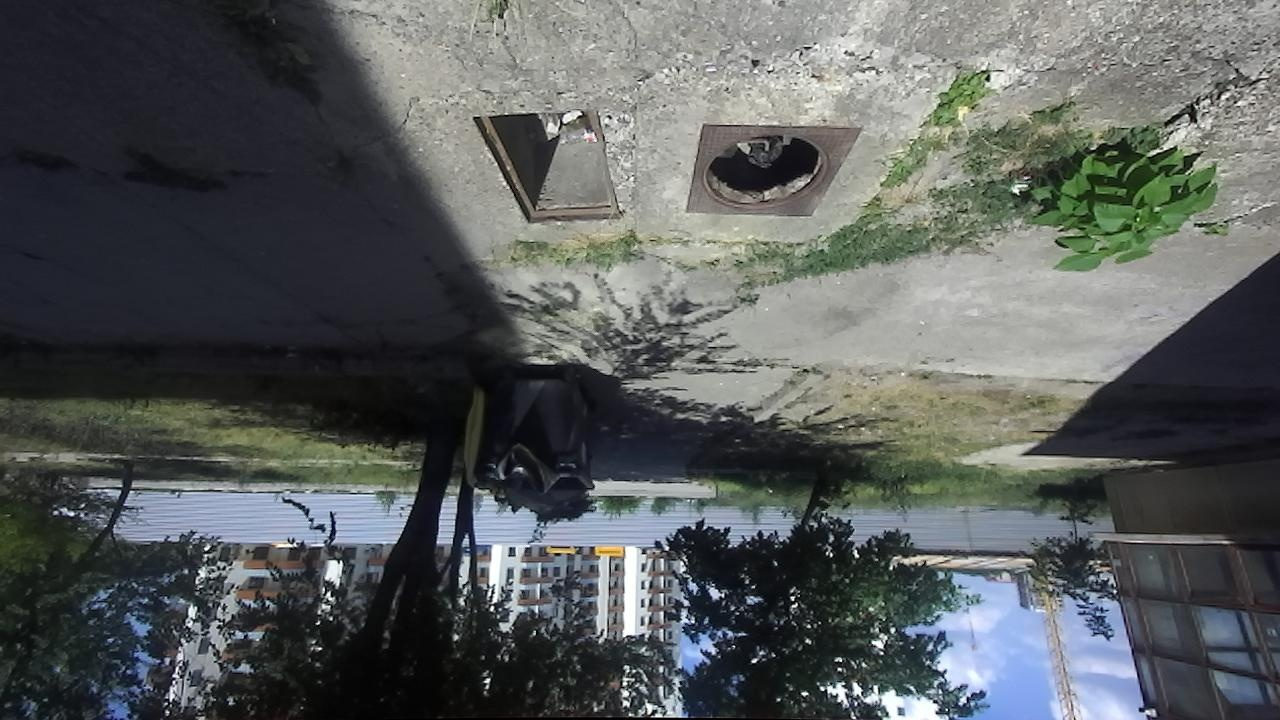drain: (465, 110, 626, 224), (698, 131, 833, 216)
